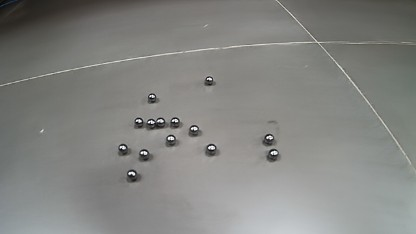ironball: (267, 148, 279, 161), (205, 143, 217, 155), (263, 133, 274, 145), (127, 169, 138, 181), (169, 117, 180, 128), (166, 134, 177, 145), (118, 143, 128, 155), (139, 148, 149, 160), (146, 118, 156, 129), (189, 124, 199, 135), (134, 117, 143, 127), (156, 117, 165, 127), (148, 93, 156, 103), (205, 76, 213, 85)
